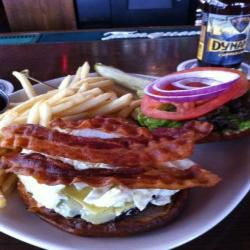burger: (17, 118, 199, 241)
fries: (9, 64, 137, 126)
